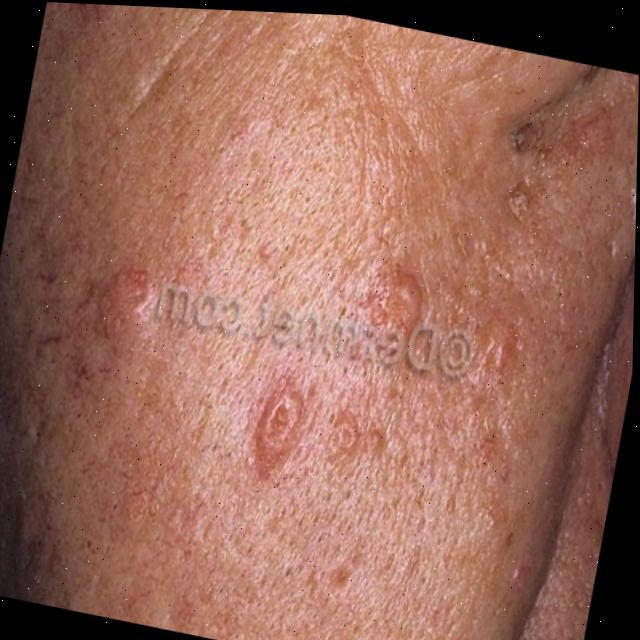Eczema: (65, 202, 440, 508)
